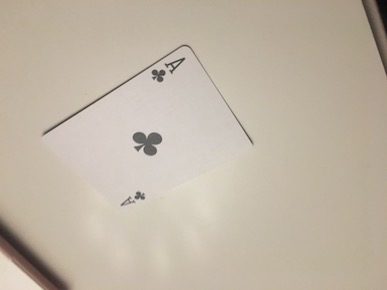AceOfClubs: (41, 42, 258, 215)
